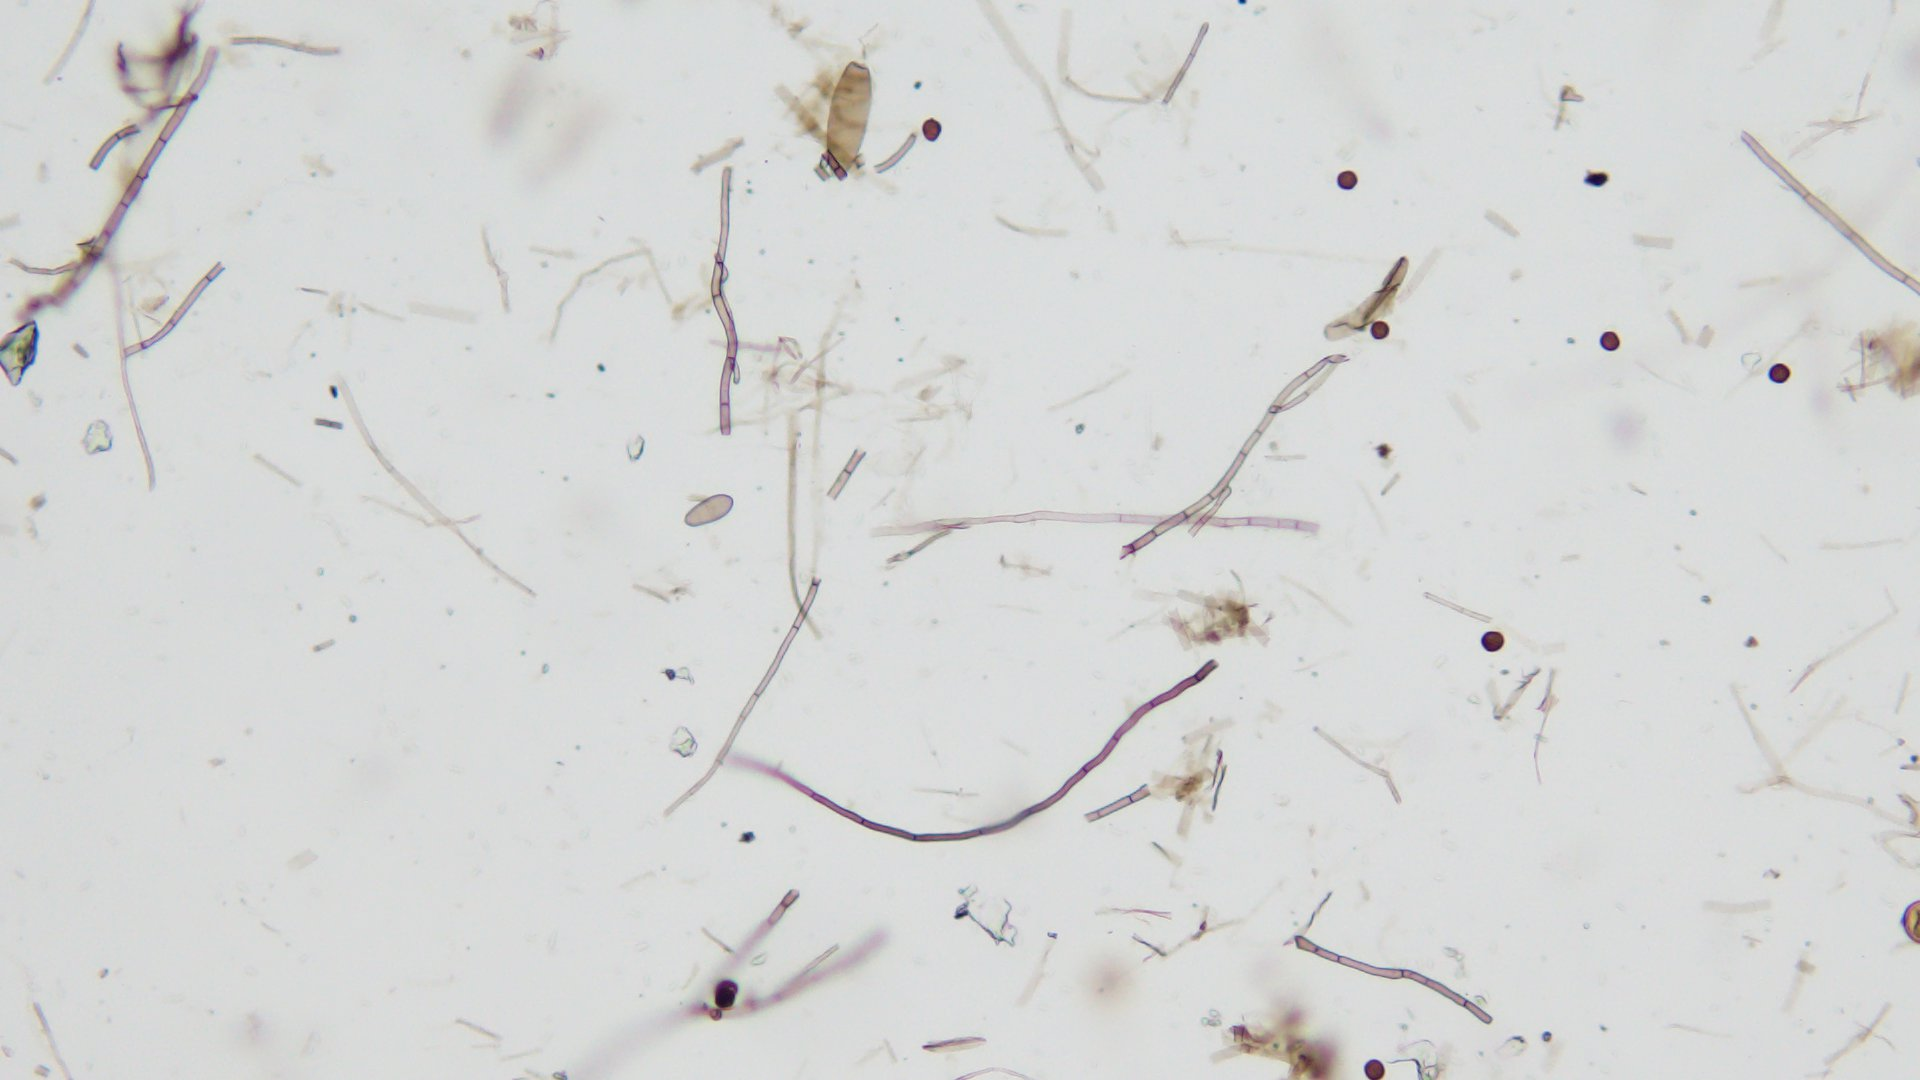dbb_spore: (828, 59, 874, 179)
shs_spore: (1764, 364, 1793, 386), (1335, 167, 1360, 193), (1367, 316, 1390, 342), (1480, 630, 1505, 651), (1600, 328, 1625, 349), (919, 119, 942, 141), (1364, 1059, 1387, 1080)
